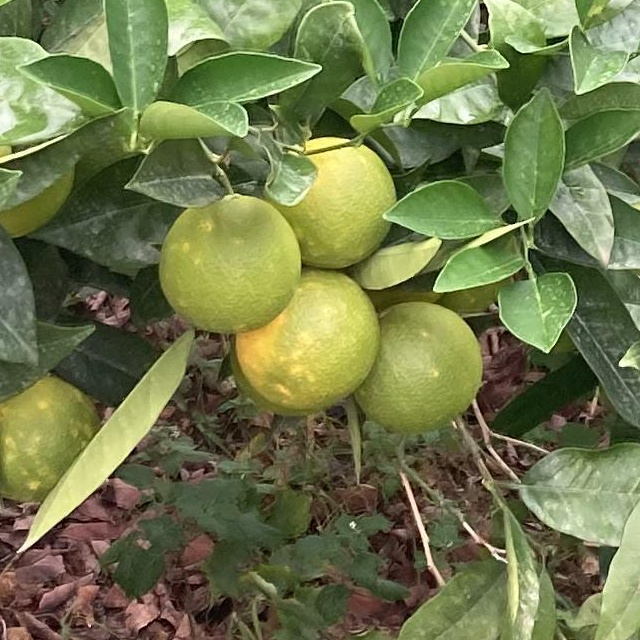orange: (268, 130, 402, 274), (237, 281, 373, 417), (160, 190, 290, 330)
